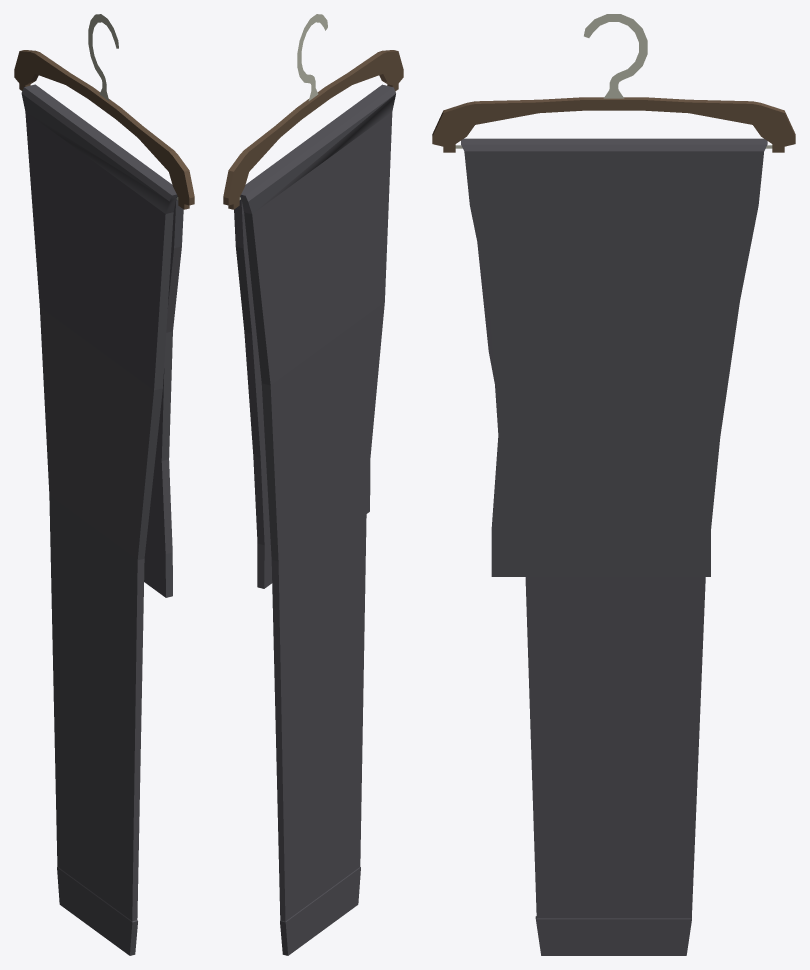
Rendered from Prefab_Array_Pants.glb.
3 renders of one model, left to right at view 1: azimuth 30°, elevation 25°; view 2: azimuth 150°, elevation 25°; view 3: azimuth 270°, elevation 25°, orthographic. The views are drawn at different scales.
Parts seen in each view (by area): view 1: ShirtHanger.003; view 2: ShirtHanger.003; view 3: ShirtHanger.003.
Part boxes in pixels (left/top/right/bottom): ShirtHanger.003: left=14, top=14, right=194, bottom=955; ShirtHanger.003: left=223, top=14, right=403, bottom=955; ShirtHanger.003: left=432, top=14, right=795, bottom=955.
Bounding box in the file's own units: 0.0194 × 0.8271 × 0.2882.
1 material, 1 textured.
